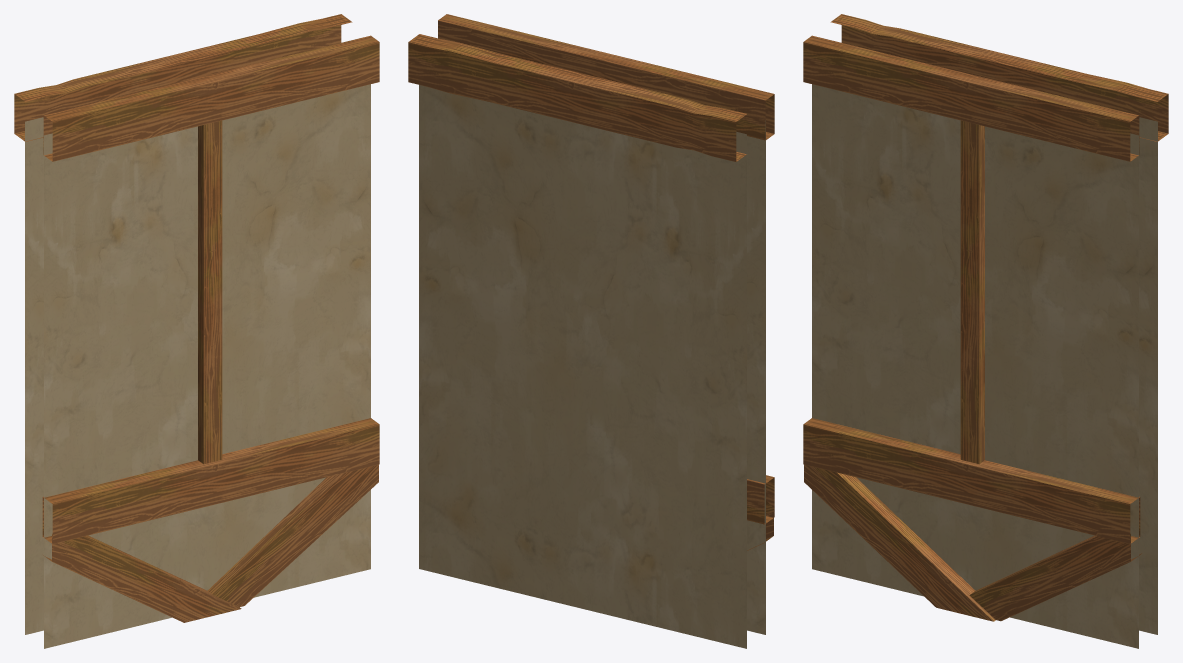
The picture shows the model from 3 angles, left to right: view 1: azimuth 30°, elevation 25°; view 2: azimuth 150°, elevation 25°; view 3: azimuth 330°, elevation 25°; orthographic projection.
Visible parts, largest first — view 1: b811c3da67f2bb9a661694a591c1e73bebe21b72dc0a04864d70d8df0c4d; view 2: b811c3da67f2bb9a661694a591c1e73bebe21b72dc0a04864d70d8df0c4d; view 3: b811c3da67f2bb9a661694a591c1e73bebe21b72dc0a04864d70d8df0c4d.
Boxes of the visible parts, x1,y1,x2,y2 form: b811c3da67f2bb9a661694a591c1e73bebe21b72dc0a04864d70d8df0c4d: (14,14,379,648); b811c3da67f2bb9a661694a591c1e73bebe21b72dc0a04864d70d8df0c4d: (408,14,774,648); b811c3da67f2bb9a661694a591c1e73bebe21b72dc0a04864d70d8df0c4d: (803,14,1168,648).
Size of the model in its own units: 2 by 3.12 by 0.4065.
Materials: 2 (2 with a texture image).
